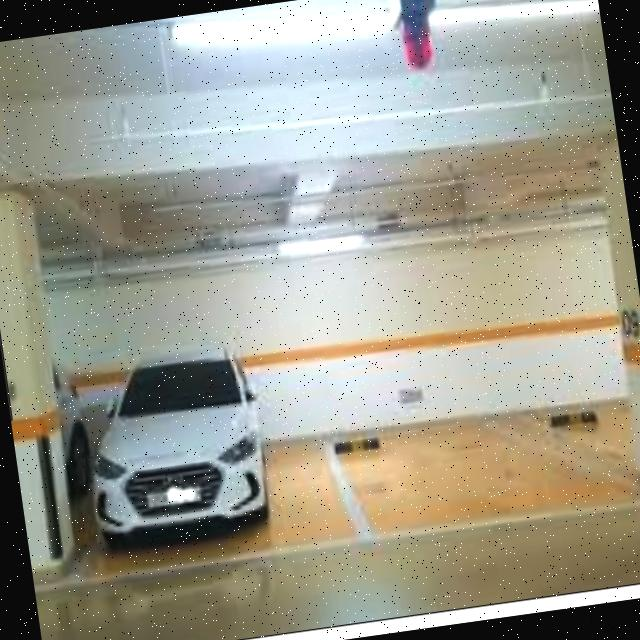empty: (336, 299, 640, 545)
occupied: (54, 342, 338, 566)
